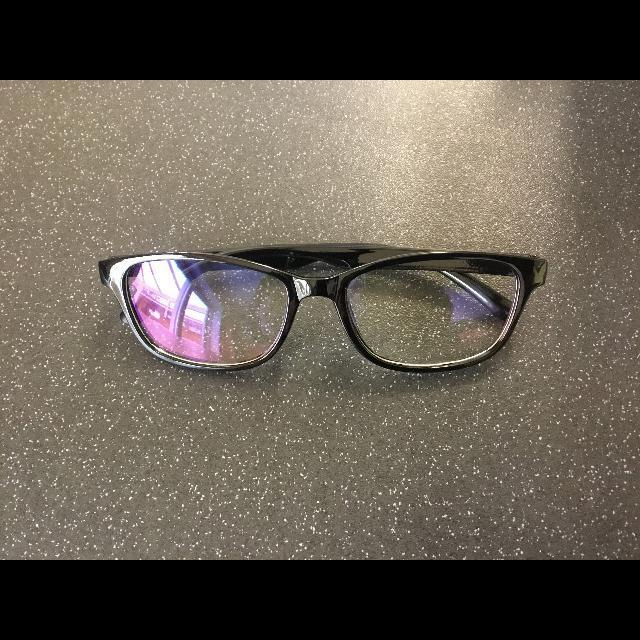glasses: (94, 243, 552, 373)
